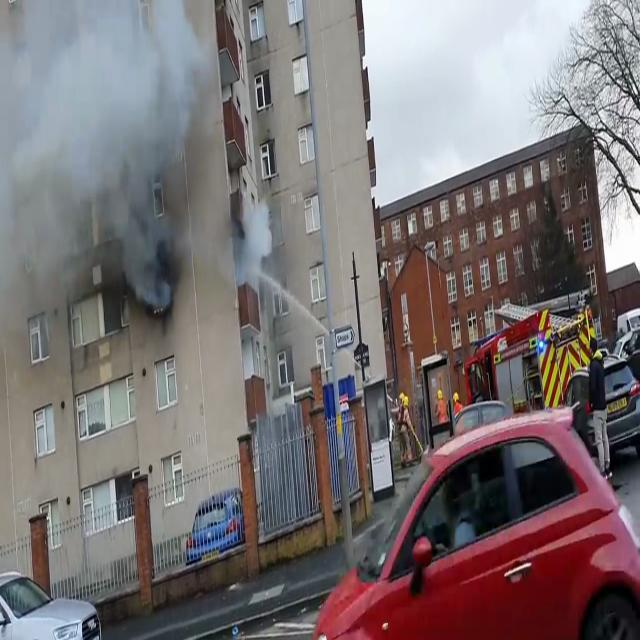Smoke: (0, 0, 213, 353), (236, 192, 272, 295)
